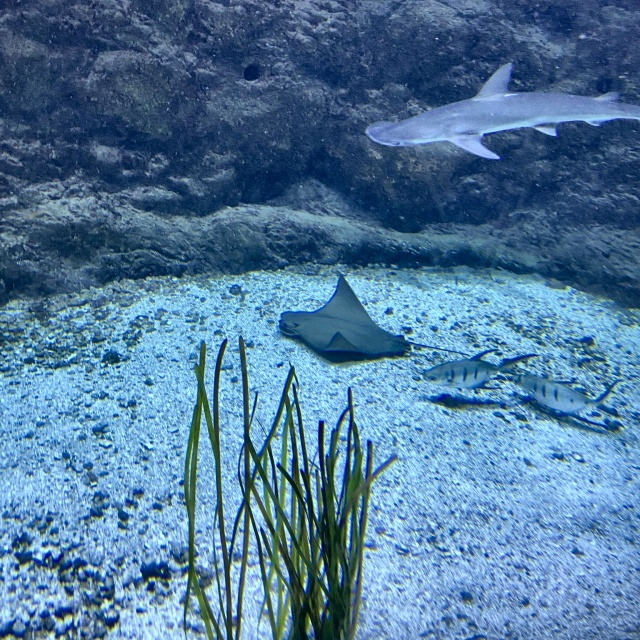fish: (519, 365, 617, 428), (423, 352, 514, 401)
shark: (372, 63, 639, 160)
stingray: (275, 274, 414, 369)
